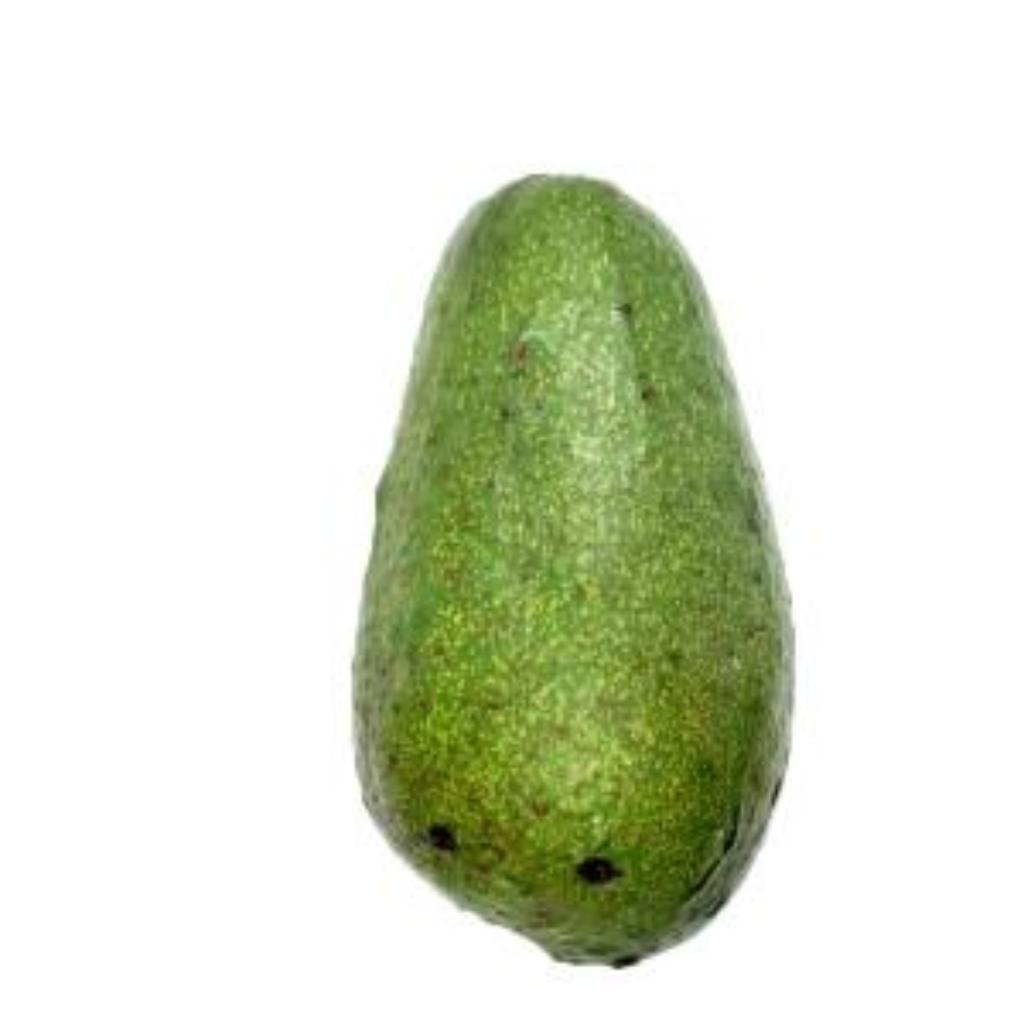cercospora: (290, 158, 833, 991)
